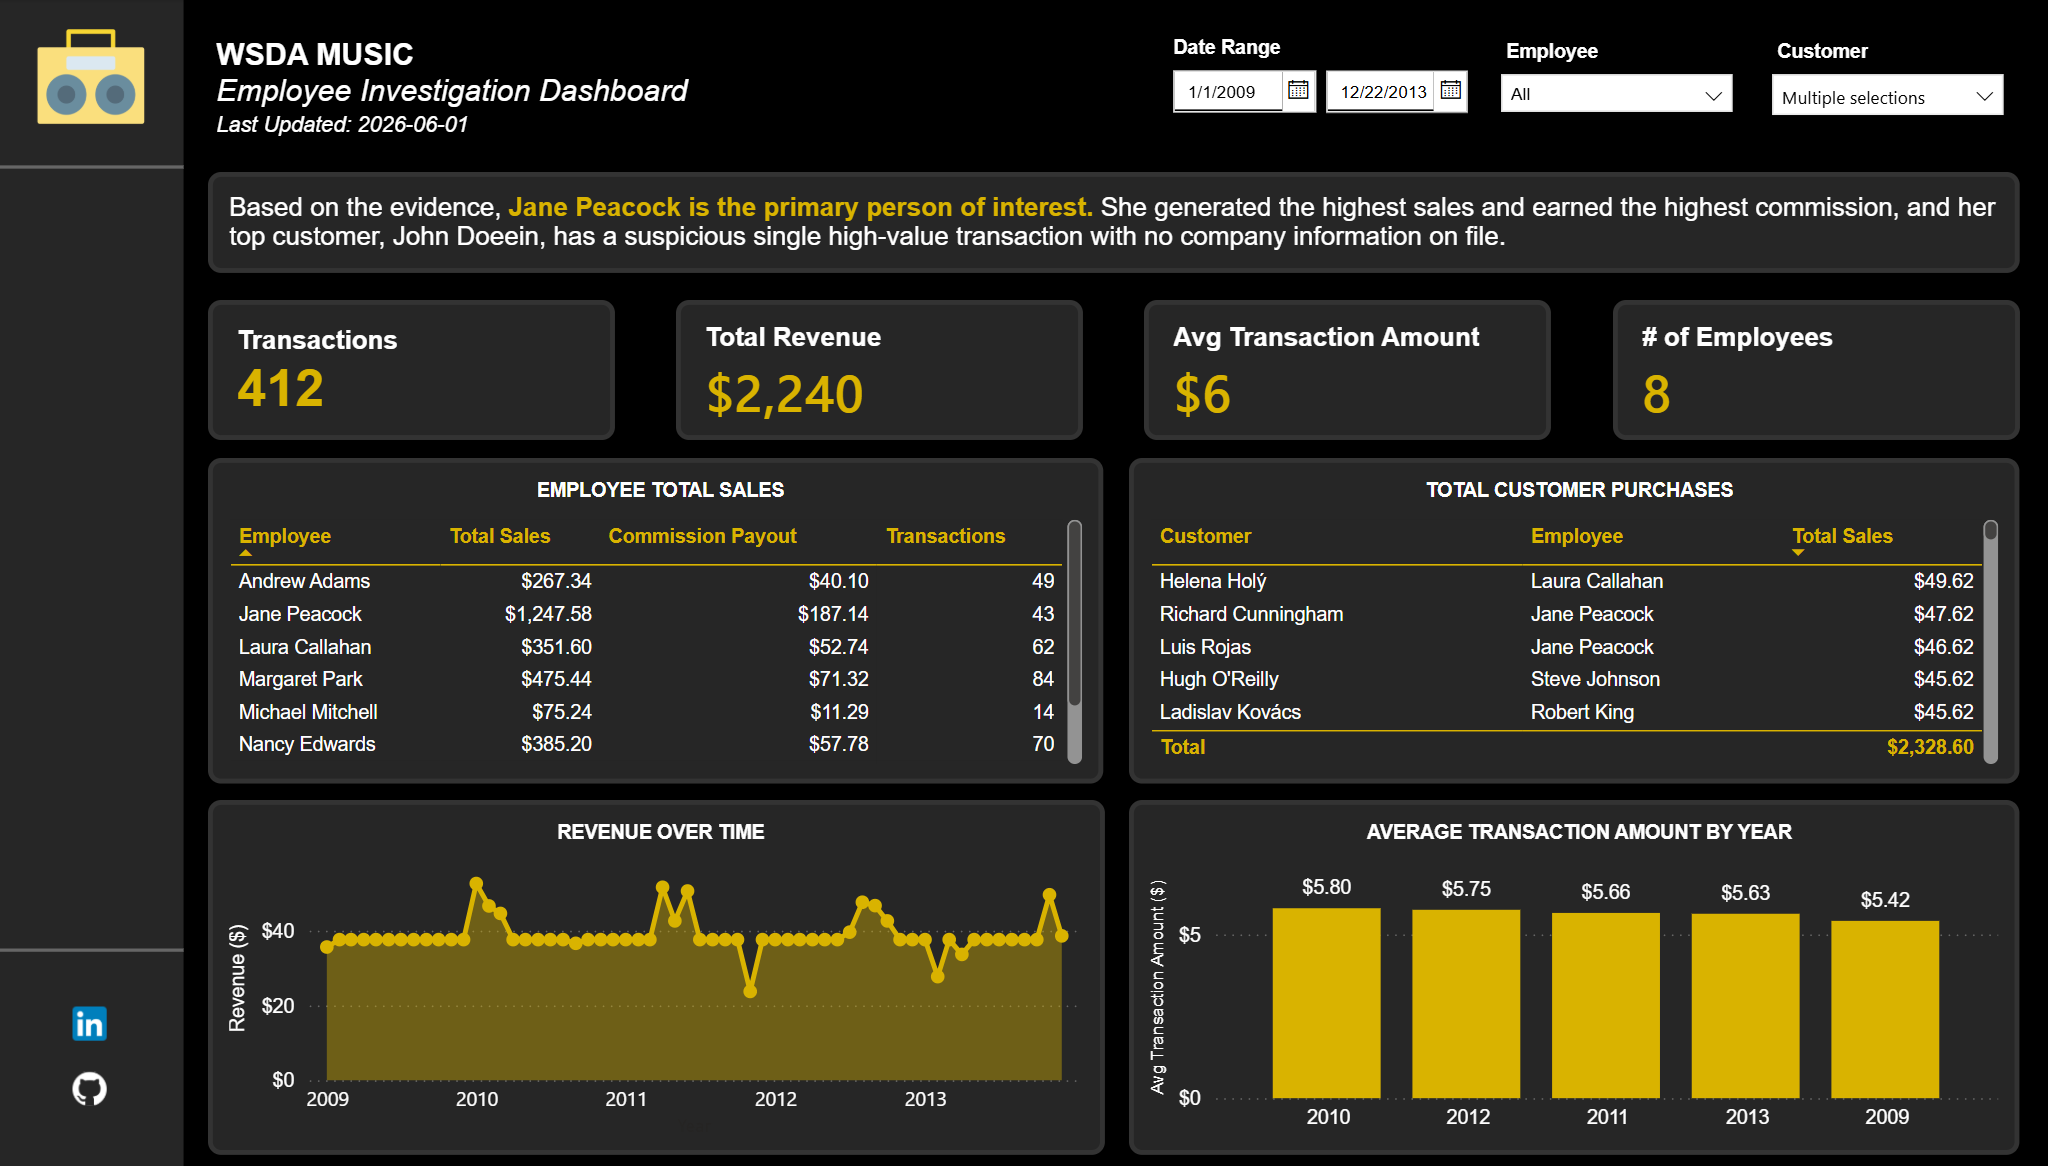

Layout of this report page (visuals, bound fields, positions):
{"tool":"powerbi","page":{"name":"Page 1","canvas":[1280,720],"ordinal":0},"visuals":[{"type":"shape","box":[0,0,114,720],"z":0},{"type":"textbox","box":[129.3,18.2,450.5,87.9],"z":1000},{"type":"textbox","box":[129,106,1113,62],"z":2000},{"type":"slicer","fields":{"Values":["Date.Date"]},"box":[709,18,205,58],"z":3000},{"type":"slicer","fields":{"Values":["Employee Table.FullName"]},"box":[913.5,20,162,72],"z":4000},{"type":"slicer","fields":{"Values":["Customer Table.CustomerName"]},"box":[1080,20,162,72],"z":5000},{"type":"cardVisual","fields":{"Data":["Invoice.invoice_count_2011_2012"]},"box":[129,185,250,86],"z":6000},{"type":"tableEx","title":"TOTAL CUSTOMER PURCHASES","fields":{"Values":["Customer Table.CustomerName","Employee Table.FullName","Sum(Invoice.Total)"]},"box":[694.9,281.8,547.5,200],"z":7000},{"type":"areaChart","title":"REVENUE OVER TIME","fields":{"Category":["Date.Date.Variation.Date Hierarchy.Year","Date.Date.Variation.Date Hierarchy.Quarter","Date.Date.Variation.Date Hierarchy.Month"],"Y":["Sum(Invoice.Total)"]},"box":[129.3,491.9,550.5,218.2],"z":8000},{"type":"columnChart","title":"AVERAGE TRANSACTION AMOUNT BY YEAR","fields":{"Category":["Date.Year"],"Y":["Invoice.Average Sales"]},"box":[694.9,491.9,547.5,218.2],"z":9000},{"type":"cardVisual","fields":{"Data":["CountNonNull(Revenue.Revenue)"]},"box":[416.7,185,250,86],"z":10000},{"type":"tableEx","title":"EMPLOYEE TOTAL SALES","fields":{"Values":["Employee Table.FullName","Employee Table.Total_Sales","Employee Table.Commission_Payout","Employee Table.Transaction_Count"]},"box":[129,282,550,200],"z":11000},{"type":"cardVisual","fields":{"Data":["Invoice.Average Sales"]},"box":[704.3,185,250,86],"z":12000},{"type":"cardVisual","fields":{"Data":["Customer Table.Employee Count"]},"box":[992,185,250,86],"z":13000},{"type":"image","box":[11.1,6.1,91.9,82.8],"z":14000},{"type":"actionButton","box":[42,615,30,29],"z":15000},{"type":"shape","box":[0,43.4,114.1,119.2],"z":16000},{"type":"shape","box":[0,553.5,114.1,61.6],"z":17000},{"type":"actionButton","box":[42,655,30,29],"z":18000}]}

Visuals, with their boxes in screenshot pixels (x1, y1, x2, y2), scaled from the page's 1280x720 canvas onto the 2048x1166 screenshot:
shape: Rect(0, 0, 182, 1165)
textbox: Rect(207, 29, 928, 172)
textbox: Rect(206, 172, 1987, 272)
slicer - Date.Date: Rect(1134, 29, 1462, 123)
slicer - Employee Table.FullName: Rect(1462, 32, 1721, 149)
slicer - Customer Table.CustomerName: Rect(1728, 32, 1987, 149)
cardVisual - Invoice.invoice_count_2011_2012: Rect(206, 300, 606, 439)
"TOTAL CUSTOMER PURCHASES" tableEx: Rect(1112, 456, 1988, 780)
"REVENUE OVER TIME" areaChart: Rect(207, 797, 1088, 1150)
"AVERAGE TRANSACTION AMOUNT BY YEAR" columnChart: Rect(1112, 797, 1988, 1150)
cardVisual - CountNonNull(Revenue.Revenue): Rect(667, 300, 1067, 439)
"EMPLOYEE TOTAL SALES" tableEx: Rect(206, 457, 1086, 781)
cardVisual - Invoice.Average Sales: Rect(1127, 300, 1527, 439)
cardVisual - Customer Table.Employee Count: Rect(1587, 300, 1987, 439)
image: Rect(18, 10, 165, 144)
actionButton: Rect(67, 996, 115, 1043)
shape: Rect(0, 70, 183, 263)
shape: Rect(0, 896, 183, 996)
actionButton: Rect(67, 1061, 115, 1108)
